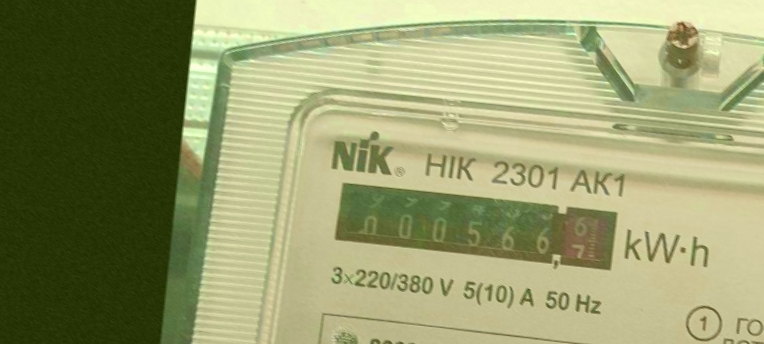0: (429, 212, 450, 242), (395, 207, 415, 238), (359, 208, 381, 233)
5: (464, 215, 484, 246)
6: (532, 220, 554, 253), (496, 220, 518, 249), (572, 211, 590, 238)
7: (569, 239, 587, 259)
9: (366, 187, 386, 209)
screen: (325, 171, 624, 277)
